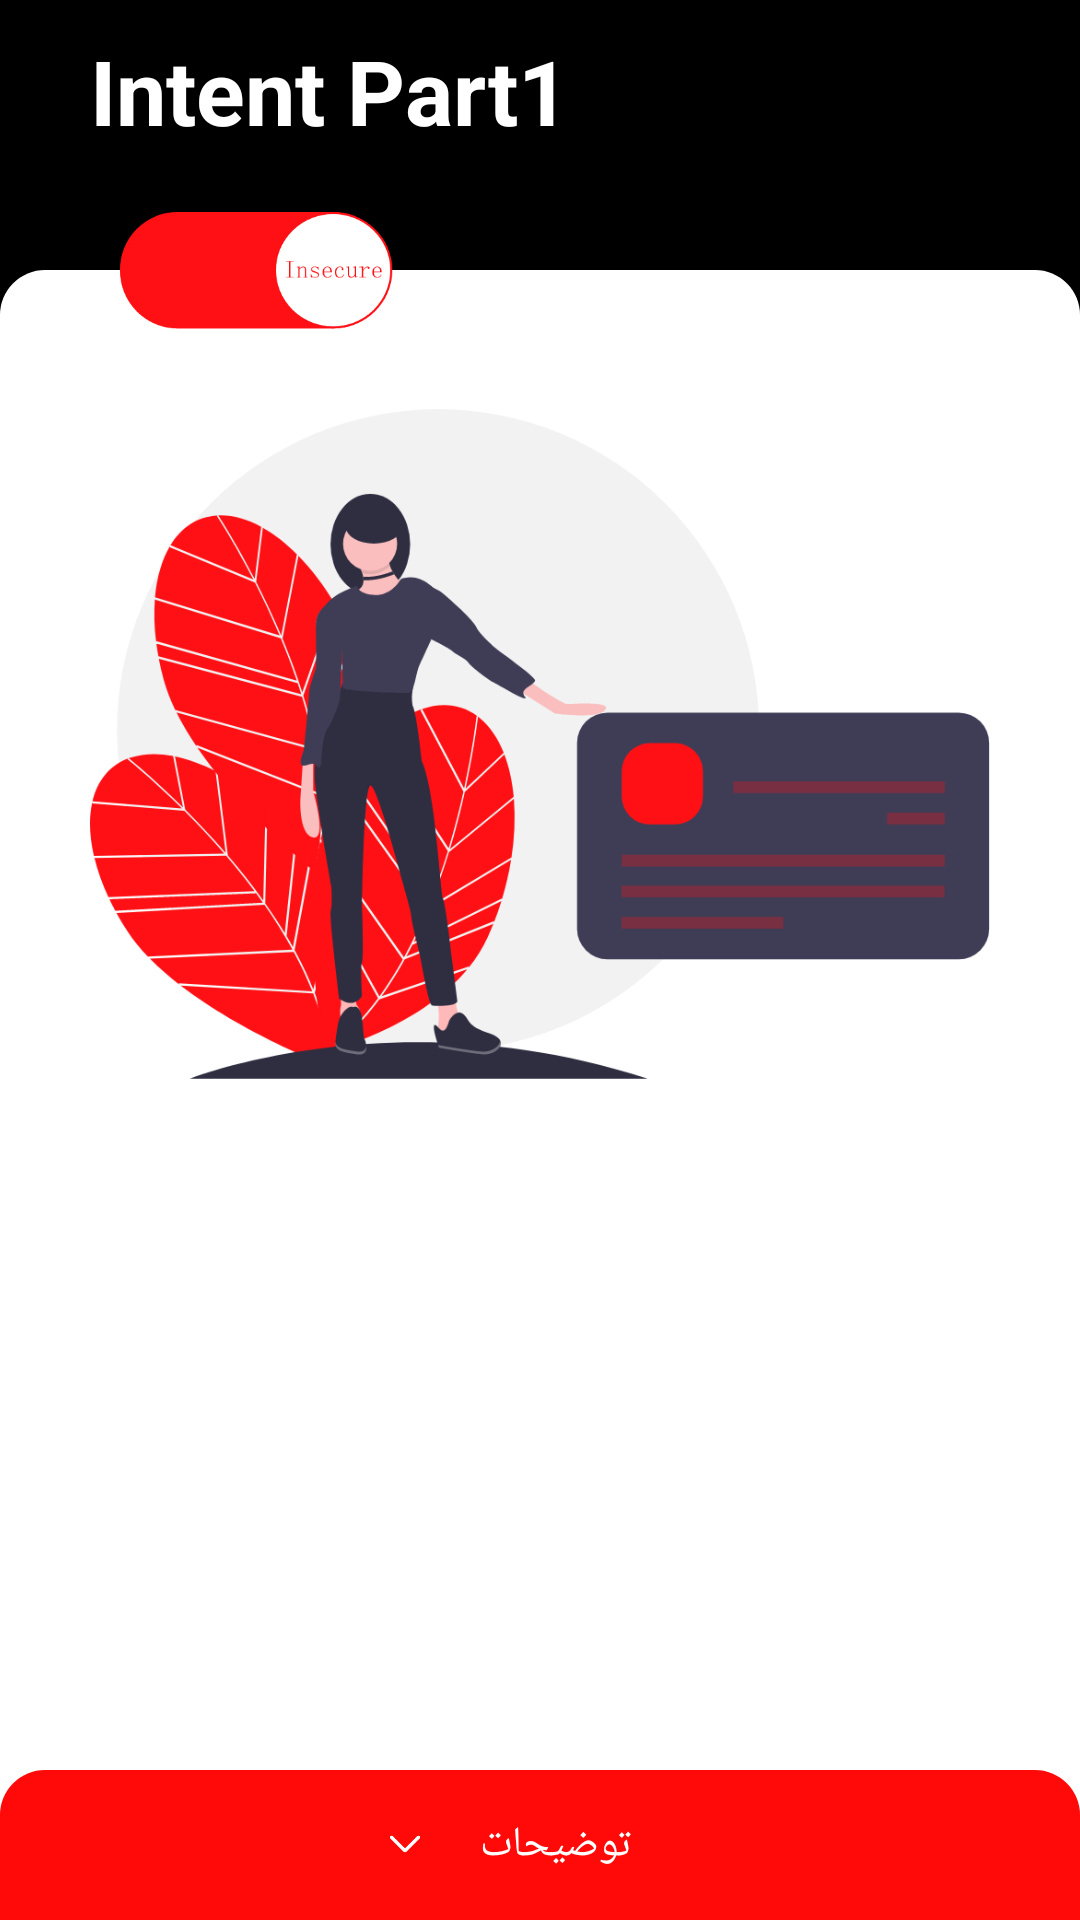

Named icons in this screenshot (1080px×1920px) and their centers, point (x, y):
toggle switch: point (256, 270)
